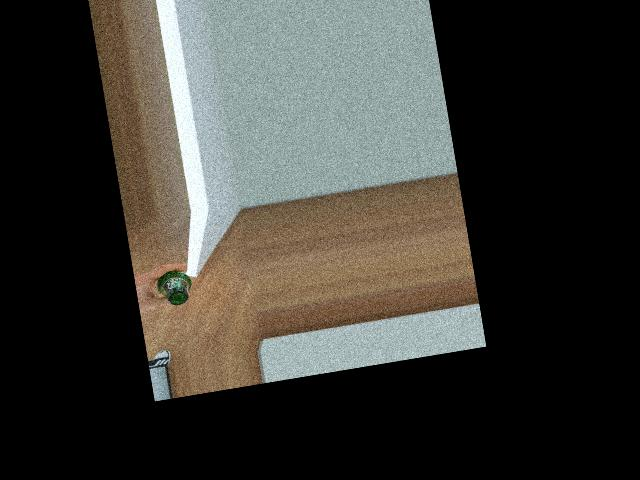beer: (154, 268, 194, 308)
